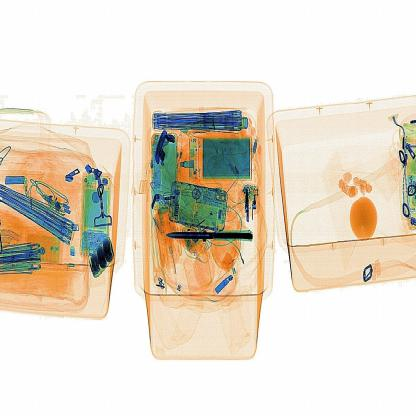gun: (162, 225, 258, 246)
